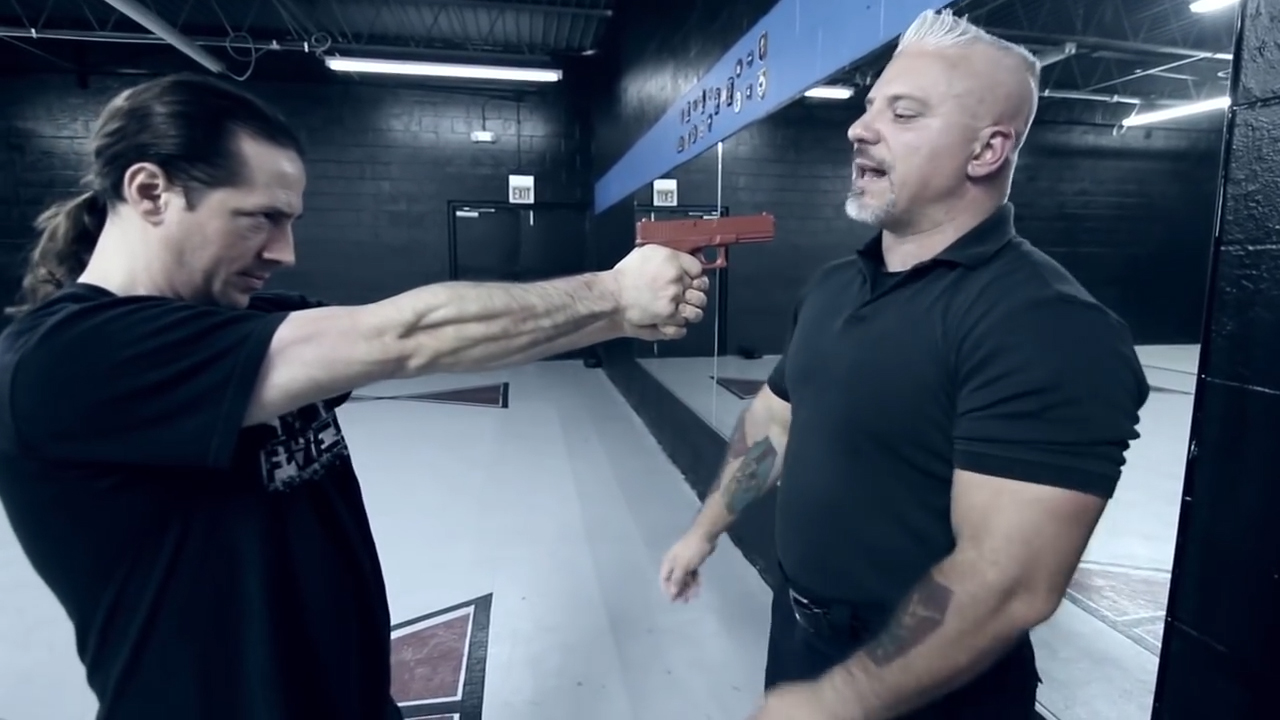pistol: (633, 210, 778, 271)
